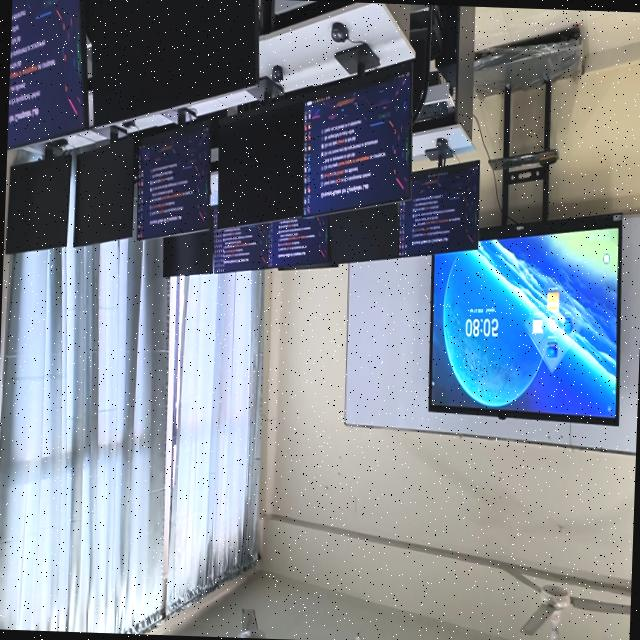Chair: (408, 3, 444, 123)
Cpu: (434, 4, 458, 84)
Digital board: (427, 28, 621, 424)
Keyboard: (416, 100, 447, 120)
Monitor: (83, 0, 257, 125), (302, 42, 411, 215), (216, 76, 303, 227), (6, 0, 85, 147), (135, 107, 209, 239), (397, 159, 478, 256), (72, 125, 134, 245), (5, 138, 70, 252), (327, 203, 398, 263), (211, 207, 270, 272), (268, 215, 329, 267), (162, 226, 212, 276)
Mouse: (329, 21, 347, 41), (270, 65, 282, 80), (435, 136, 448, 149)
